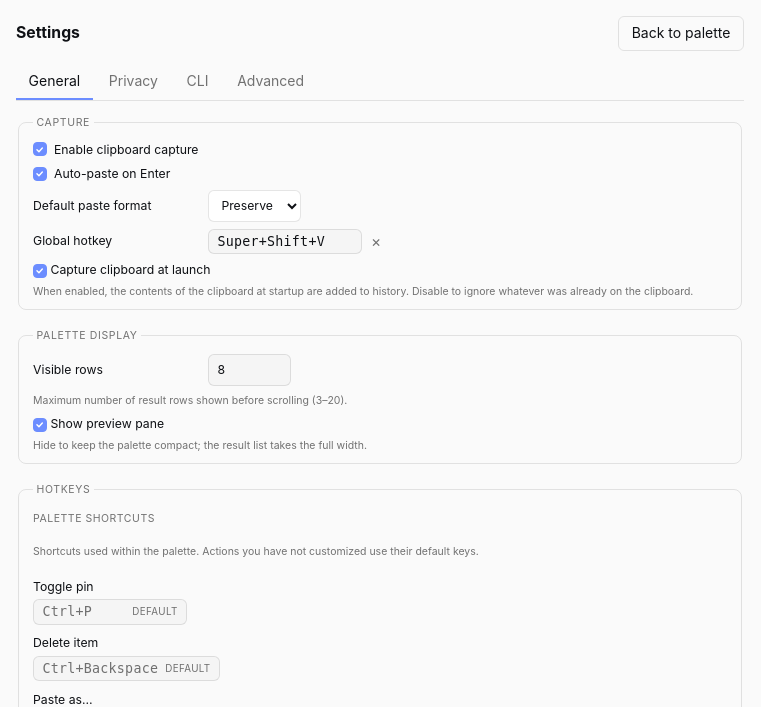
SettingsView Advanced tab — capability table › renders Linux Wayland capabilities — experimental tier, auto-paste off by default, global hotkey unsupported
Click the tab "Advanced". click: (271, 82)
box: x1=224 y1=65 x2=317 y2=100
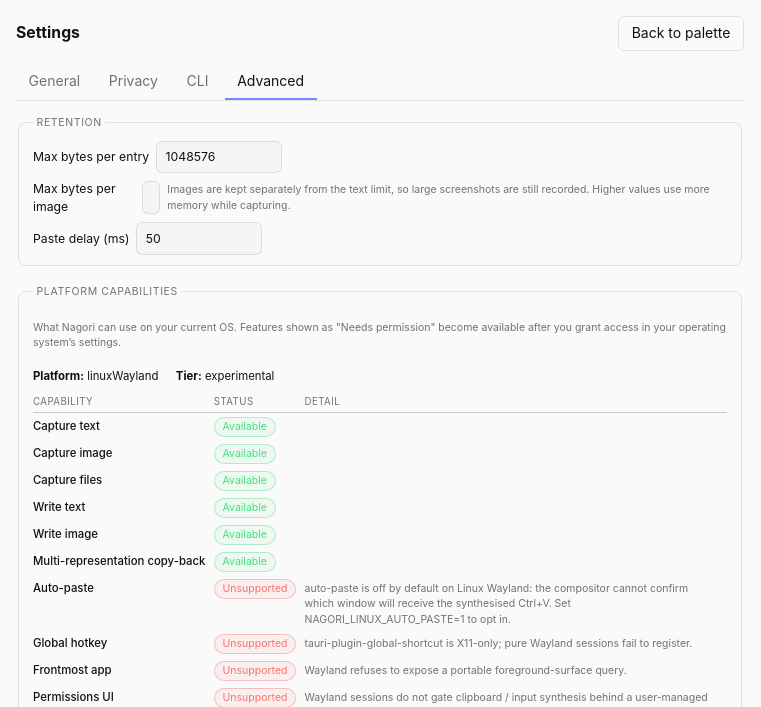
Check: the text "Platform capabilities" is shown, box x1=33 y1=284 x2=181 y2=299
Check: the text with class "capability-status" next to "Capture text" reads "Available", box x1=222 y1=420 x2=267 y2=433
Check: the 1st text with class "capability-status" reads "Unsupported", box x1=222 y1=582 x2=287 y2=595
